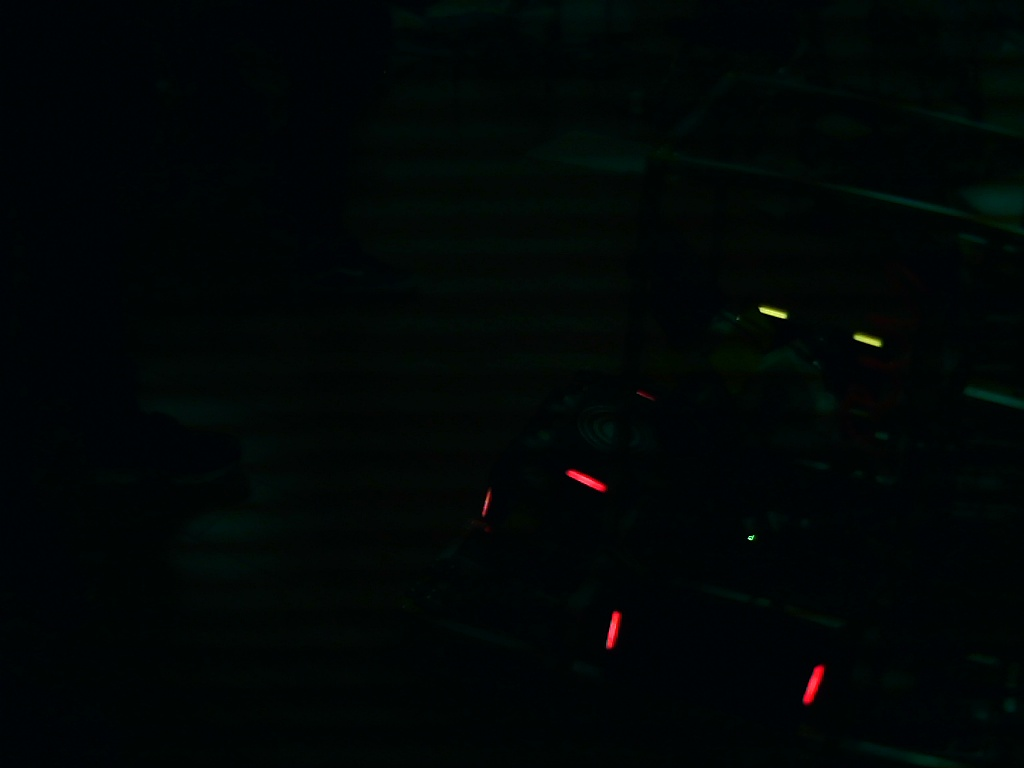lamp: (600, 604, 624, 656), (803, 662, 826, 709)
